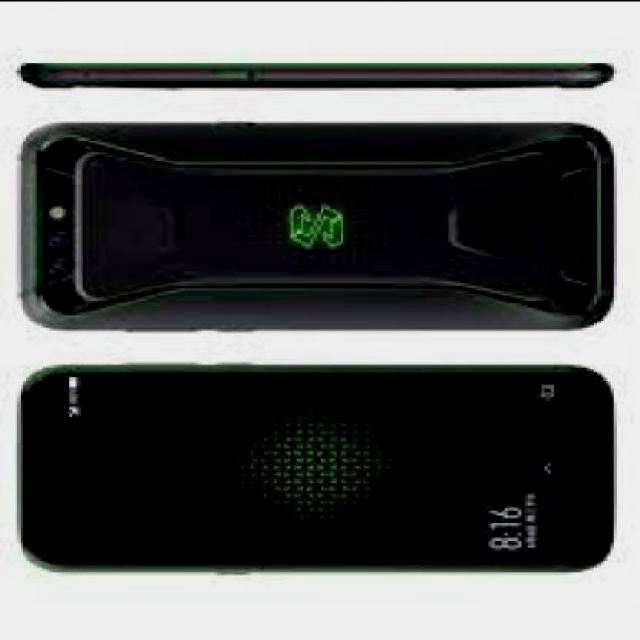phone: (14, 115, 617, 334), (14, 360, 617, 576)
